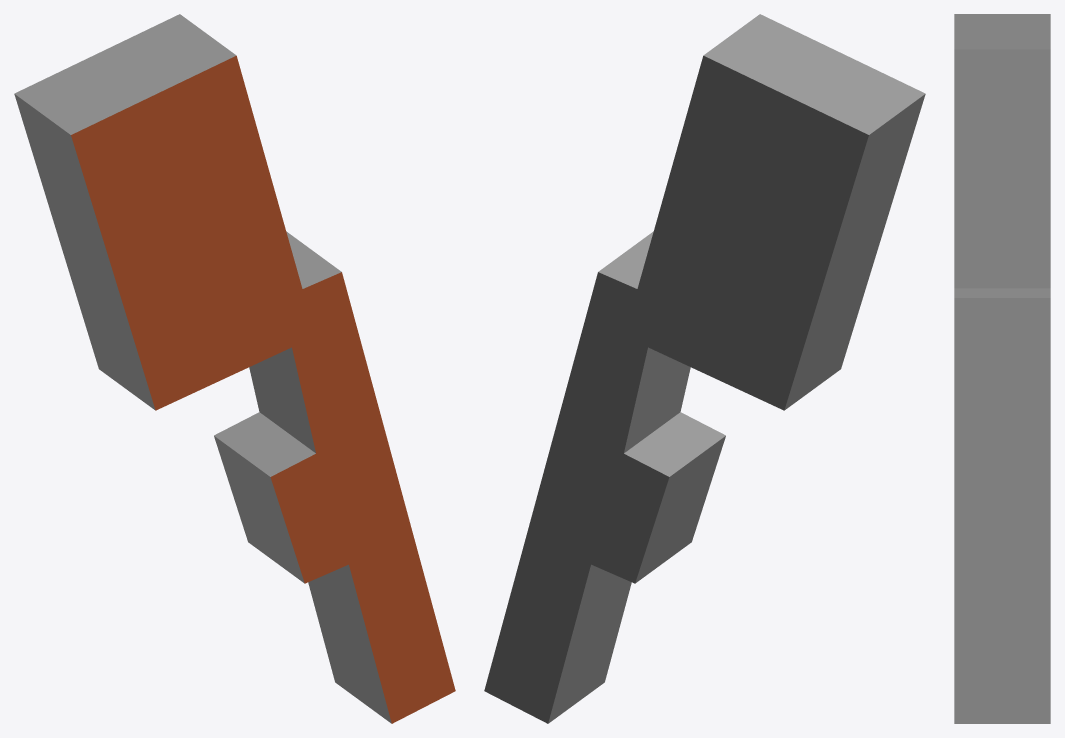
File: construction_5187_assumed_A_Casa_h6m.obj
3 views of the same model, side by side, from view 1: azimuth 30°, elevation 25°; view 2: azimuth 150°, elevation 25°; view 3: azimuth 270°, elevation 25° (orthographic). The views are drawn at different scales.
Parts seen in each view (by area): view 1: construction_5187_assumed_A_Casa; view 2: construction_5187_assumed_A_Casa; view 3: construction_5187_assumed_A_Casa.
Part boxes in pixels (left/top/right/bottom): construction_5187_assumed_A_Casa: left=14, top=14, right=455, bottom=723; construction_5187_assumed_A_Casa: left=484, top=14, right=925, bottom=723; construction_5187_assumed_A_Casa: left=954, top=14, right=1050, bottom=723.
Bounding box in the file's own units: 23.5 × 41.21 × 6.
